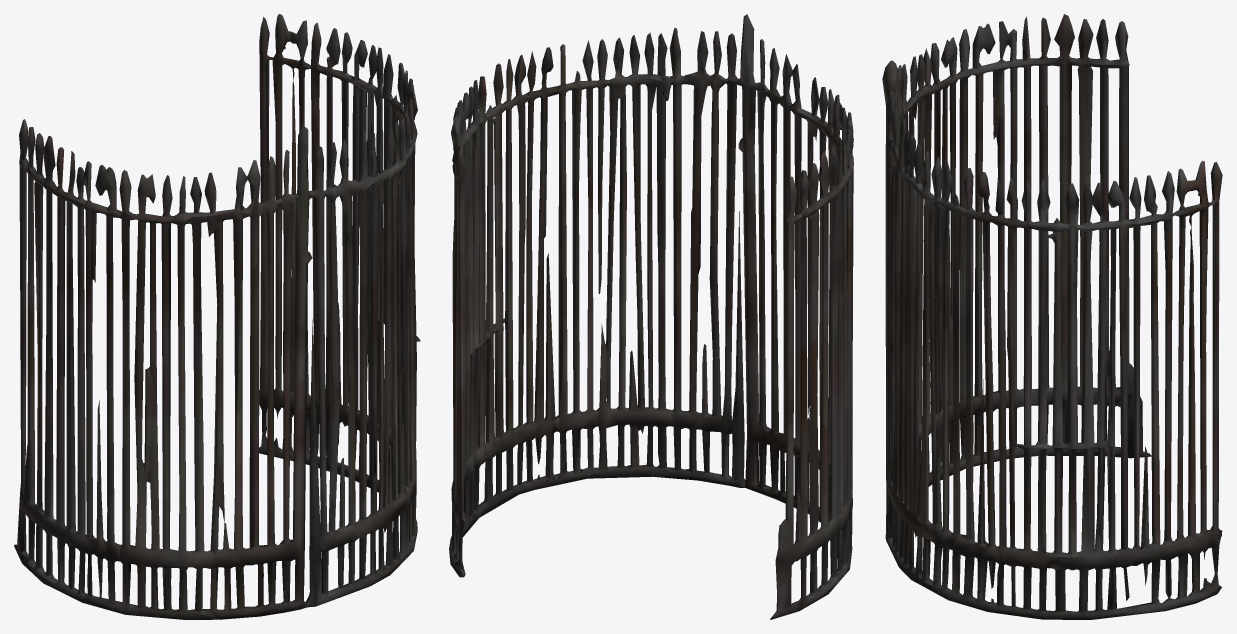
The model's file is chipped-iron-iron-gate-v002.glb.
The picture shows the model from 3 angles, left to right: view 1: azimuth 30°, elevation 25°; view 2: azimuth 150°, elevation 25°; view 3: azimuth 270°, elevation 25°; orthographic projection.
Parts seen in each view (by area): view 1: chipped-iron-iron-gate; view 2: chipped-iron-iron-gate; view 3: chipped-iron-iron-gate.
Part boxes in pixels (x1,y1,x2,y2): chipped-iron-iron-gate: [14, 14, 420, 619]; chipped-iron-iron-gate: [449, 14, 853, 619]; chipped-iron-iron-gate: [882, 14, 1222, 619].
Bounding box in the file's own units: 1.99 × 2.58 × 1.68.
Materials: 1 (1 with a texture image).
